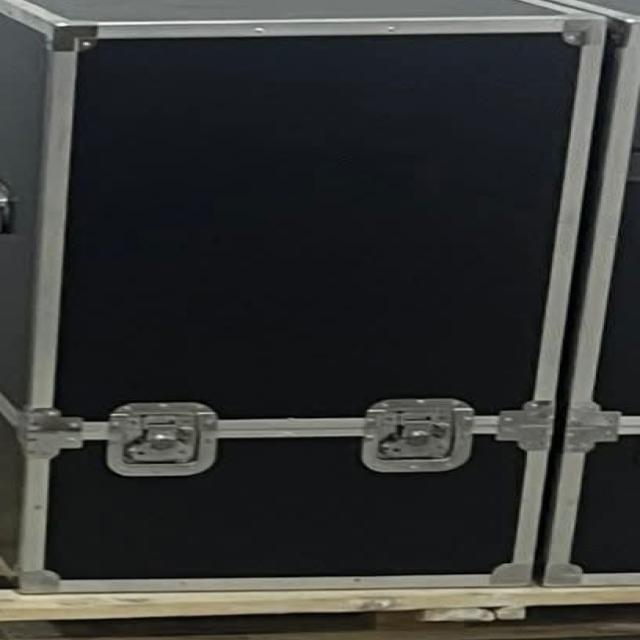wooden_box: (0, 0, 616, 604)
